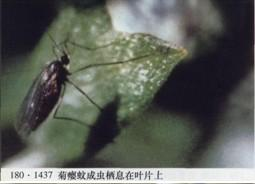Cecidomyiidae: (7, 16, 127, 146)
